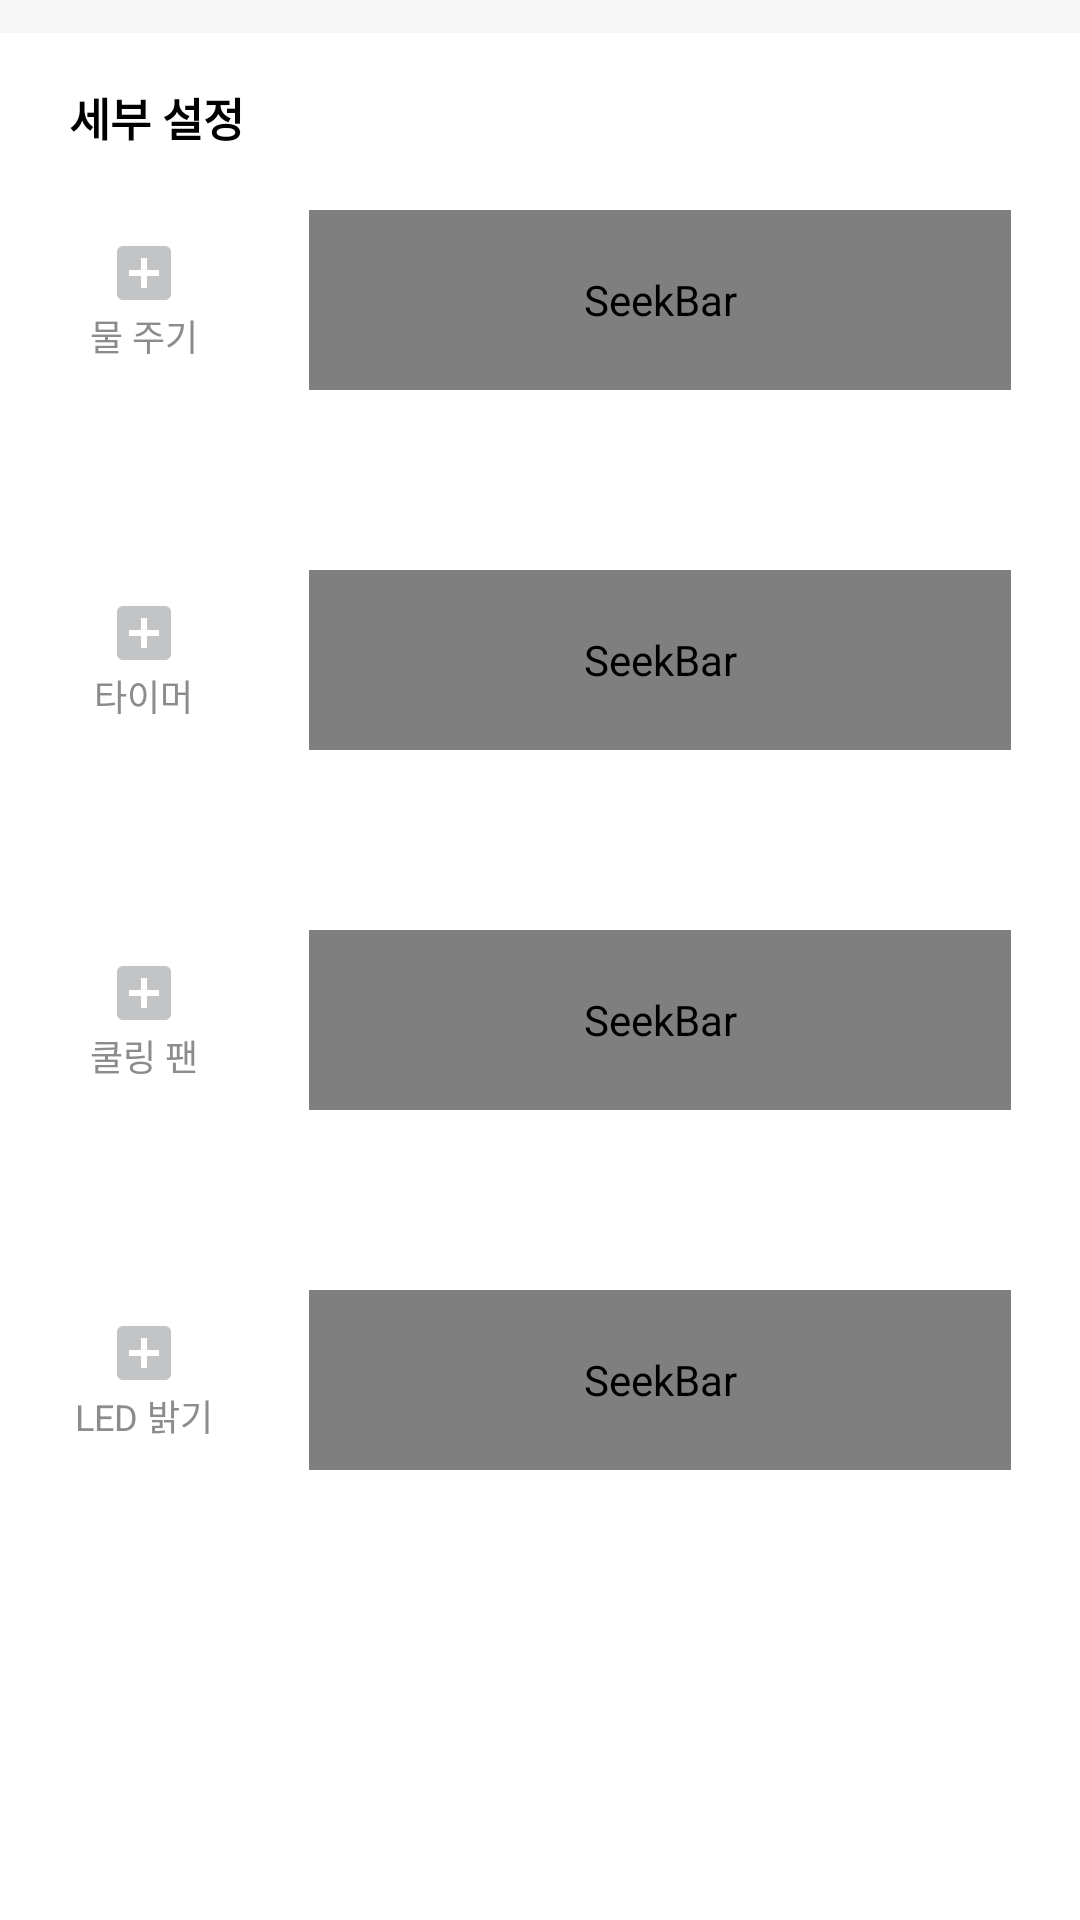

Icon click points for this 1080x1920 phone screenshot, format (x,y):
add box: (144,273), (144,633), (144,993), (144,1353)
